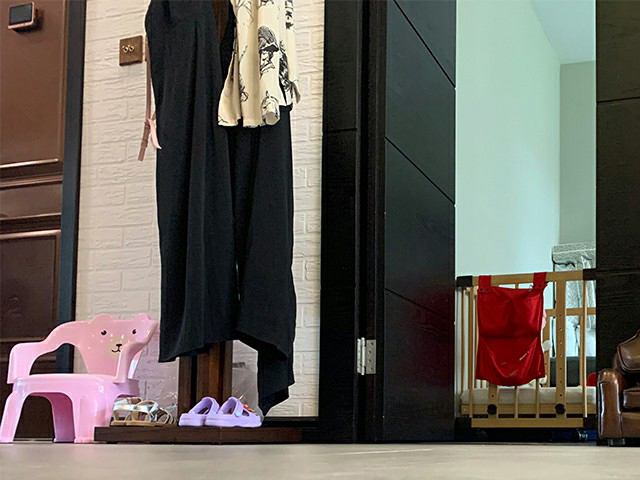slippers: (208, 394, 263, 426), (177, 392, 216, 427)
sofa: (596, 330, 640, 448)
stool: (1, 312, 159, 443)
